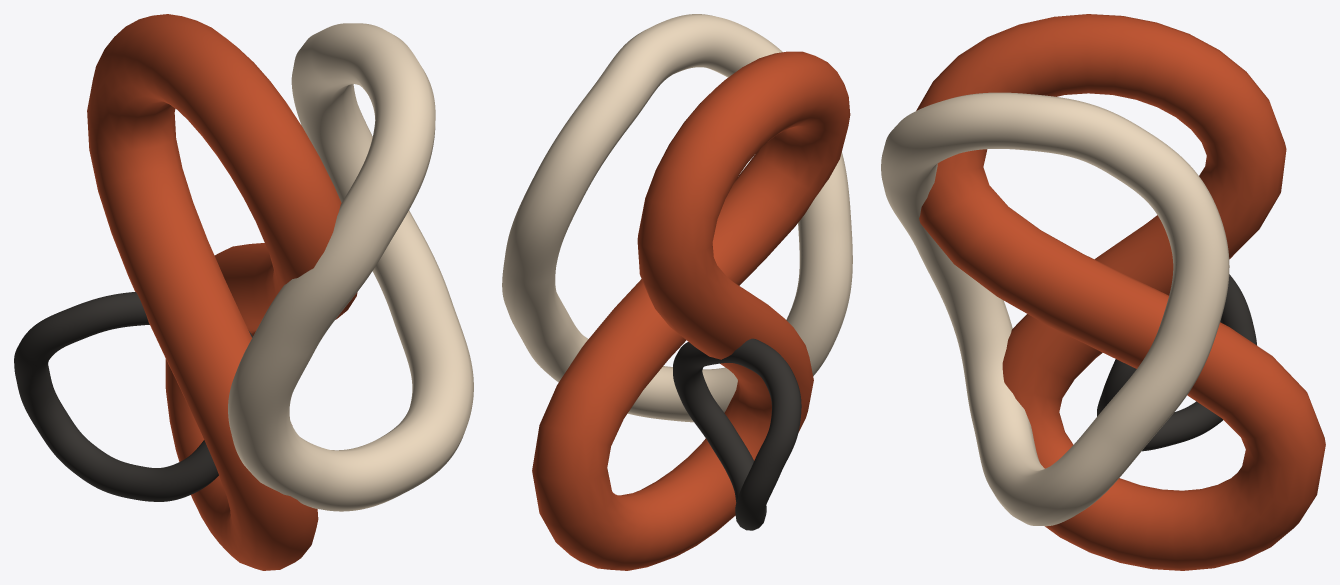
Rendered from form-01.glb.
3 views of the same model, side by side, from view 1: azimuth 30°, elevation 25°; view 2: azimuth 150°, elevation 25°; view 3: azimuth 270°, elevation 25° (orthographic). The views are drawn at different scales.
Parts seen in each view (by area): view 1: FORM_01_Main_WebMesh, FORM_01_Ivory_Loop, FORM_01_Charcoal_Loop; view 2: FORM_01_Main_WebMesh, FORM_01_Ivory_Loop, FORM_01_Charcoal_Loop; view 3: FORM_01_Main_WebMesh, FORM_01_Ivory_Loop, FORM_01_Charcoal_Loop.
Part boxes in pixels (x1,y1,x2,y2): FORM_01_Main_WebMesh: (87, 14, 357, 570); FORM_01_Ivory_Loop: (228, 23, 473, 511); FORM_01_Charcoal_Loop: (14, 291, 252, 501); FORM_01_Main_WebMesh: (532, 51, 850, 570); FORM_01_Ivory_Loop: (502, 14, 852, 422); FORM_01_Charcoal_Loop: (673, 338, 801, 530); FORM_01_Main_WebMesh: (916, 14, 1325, 570); FORM_01_Ivory_Loop: (881, 92, 1229, 526); FORM_01_Charcoal_Loop: (1097, 274, 1256, 451).
Bounding box in the file's own units: 4.8 × 6.83 × 5.38.
